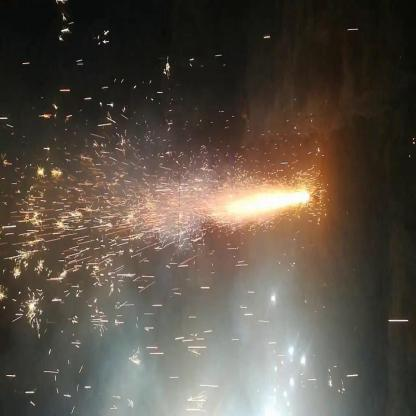fire: (189, 177, 313, 238)
